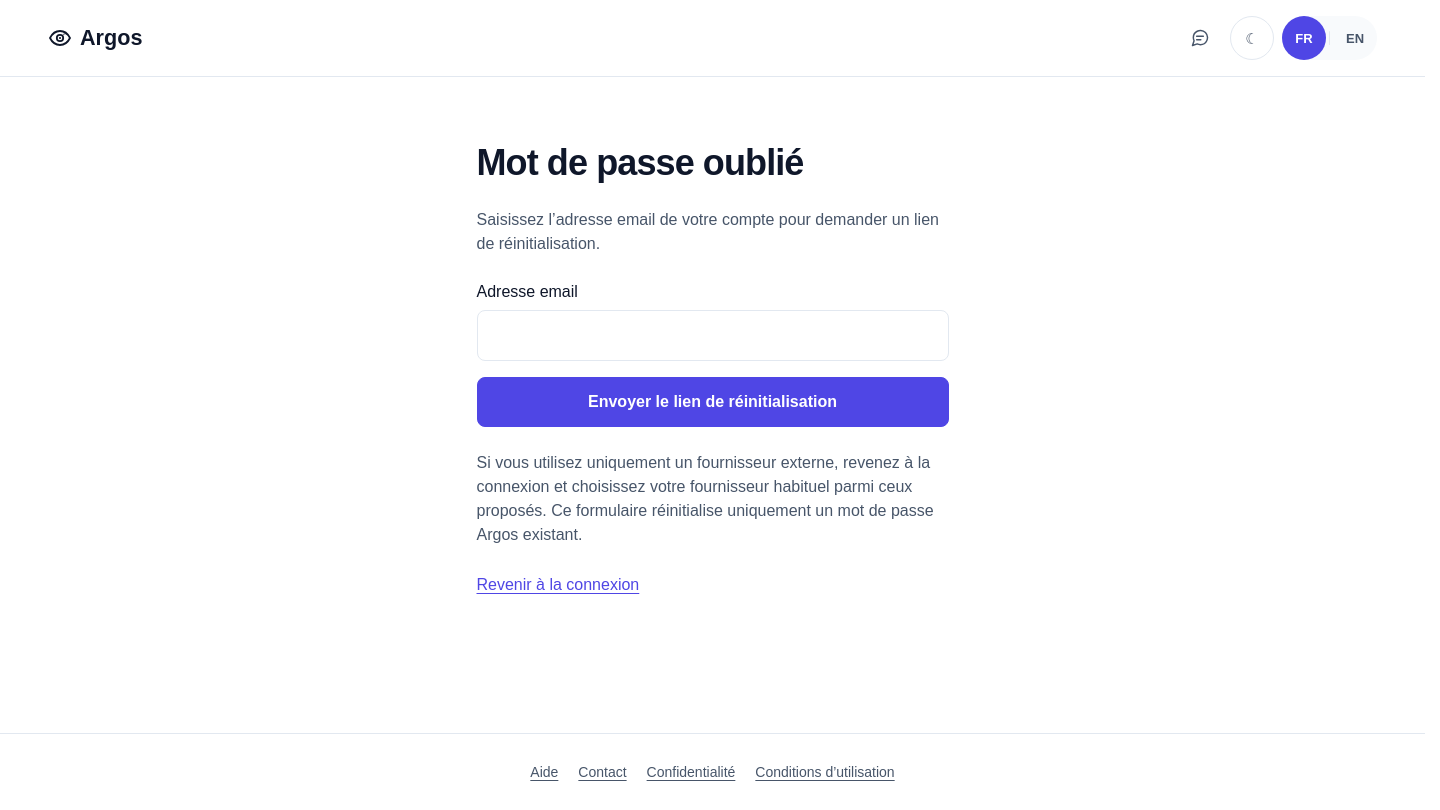
Test: keeps the recovery address and enables retry after a service error in fr
Type "fixture@example.invalid" into the field labelled "Adresse email" at coordinates (712, 336), box top-left (476, 310), bottom-right (948, 361)
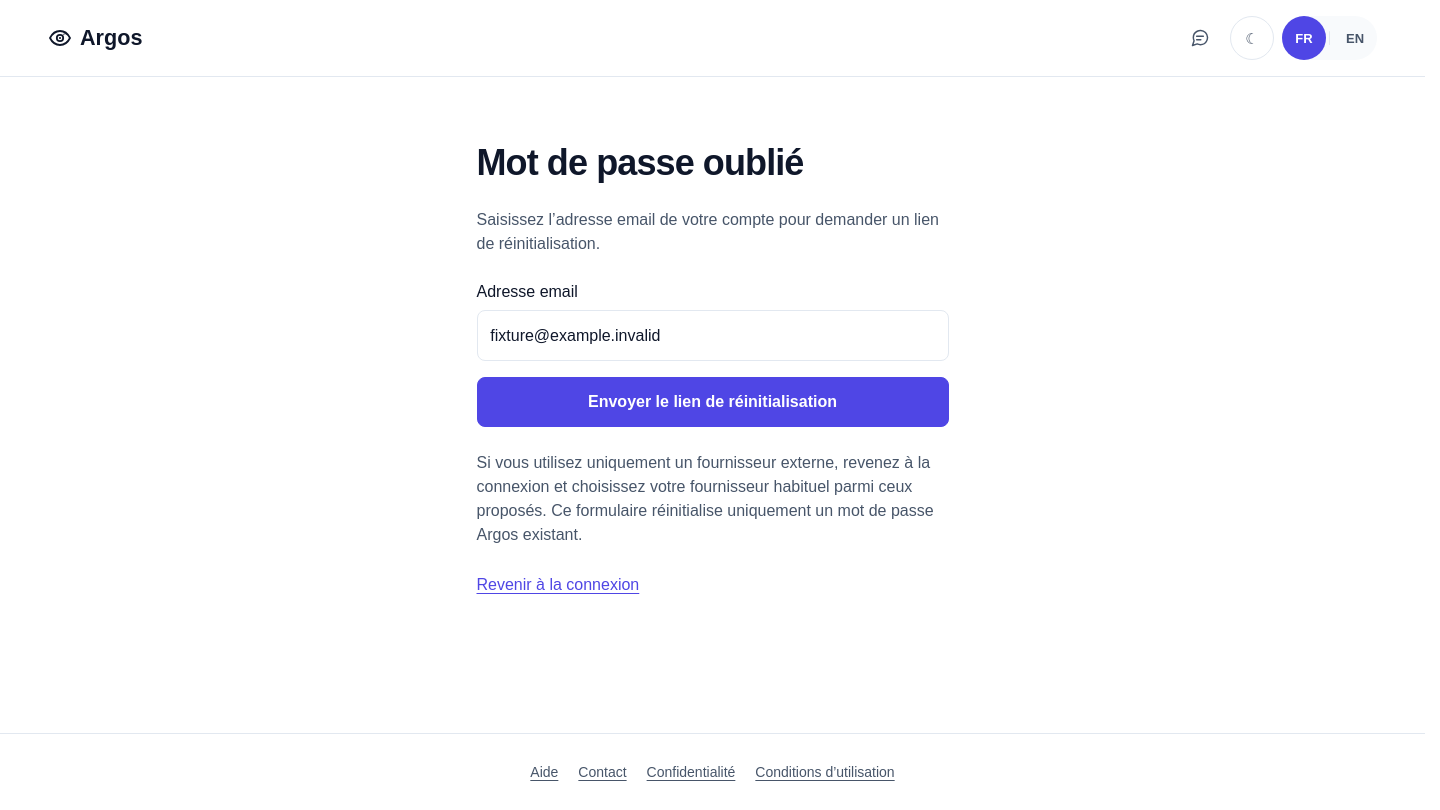
Submit the form labelled "Adresse email", box top-left (476, 280), bottom-right (948, 427)
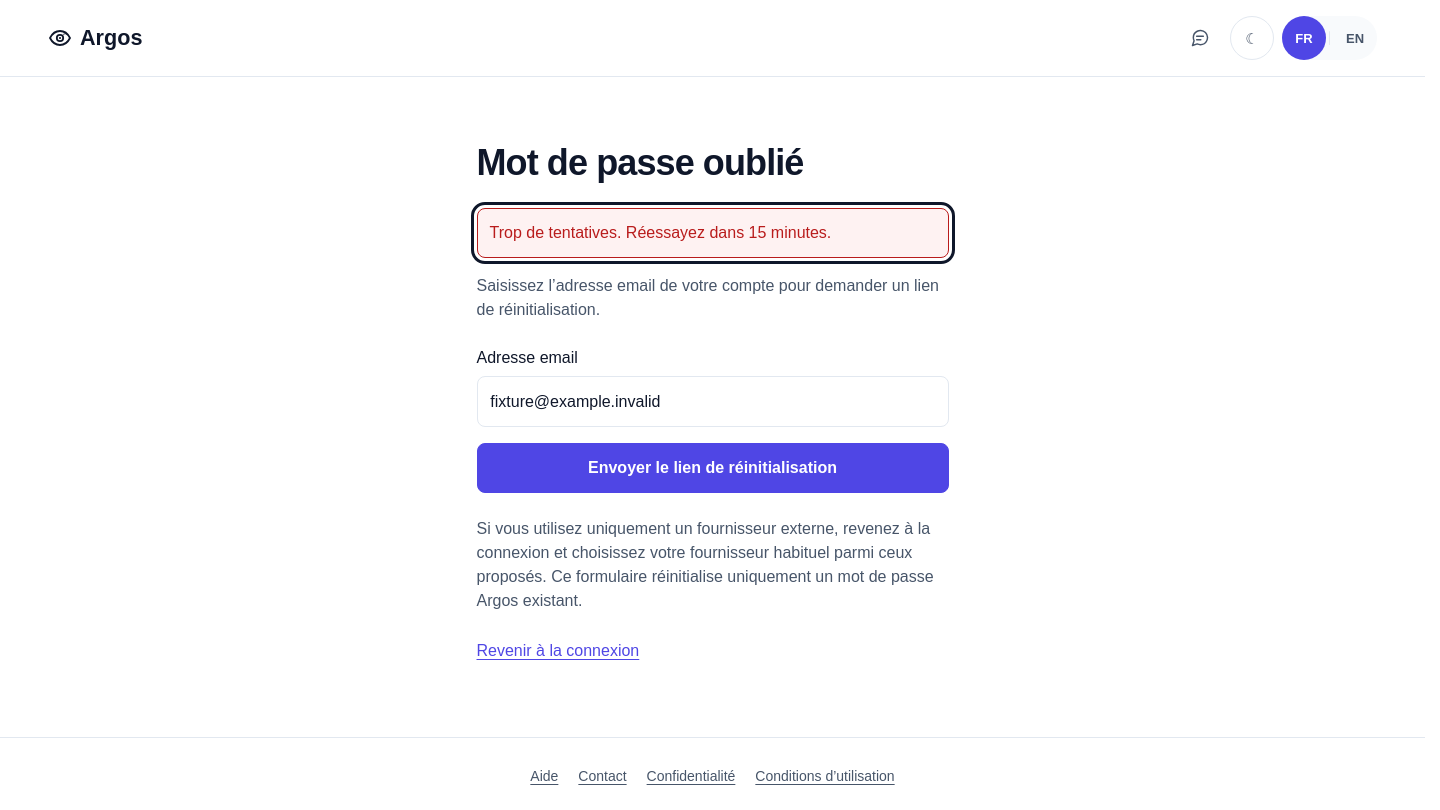
Expected: the field labelled "Adresse email" is enabled, top-left (476, 376), bottom-right (948, 427)
Now the message shows "15", box top-left (490, 224), bottom-right (831, 241)
